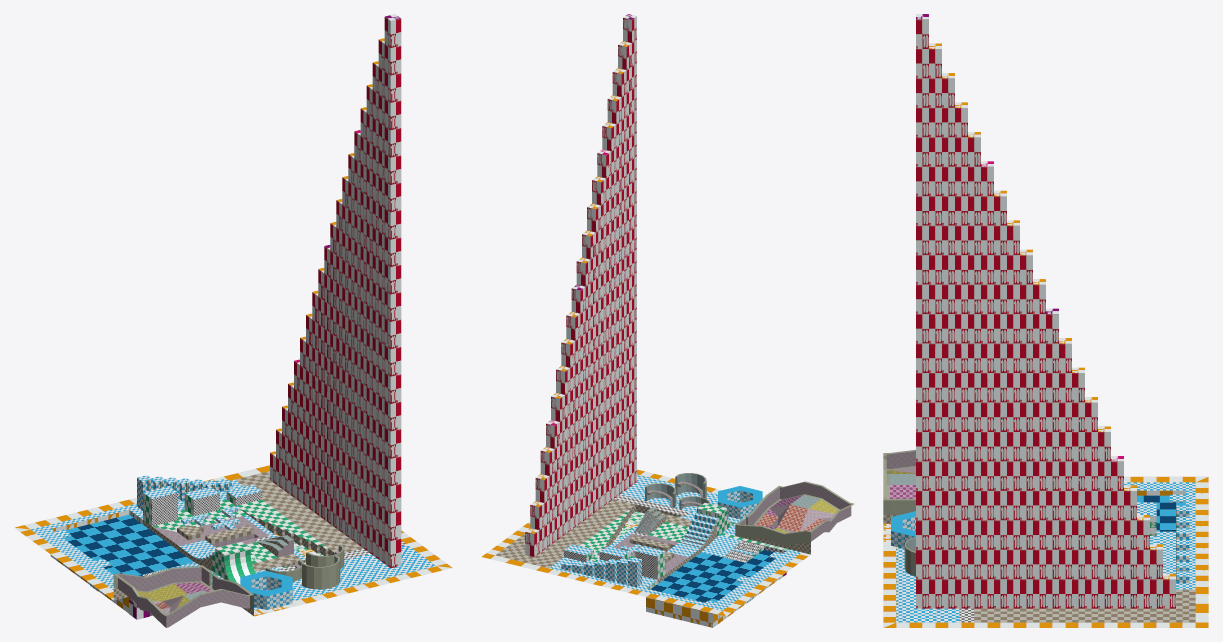
The picture shows the model from 3 angles, left to right: view 1: azimuth 30°, elevation 25°; view 2: azimuth 150°, elevation 25°; view 3: azimuth 270°, elevation 25°; orthographic projection. The views are drawn at different scales.
Visible parts, largest first — view 1: n5b10.001; view 2: n5b10.001; view 3: n5b10.001.
Boxes of the visible parts, x1,y1,x2,y2 form: n5b10.001: (14,14,452,627); n5b10.001: (481,14,854,627); n5b10.001: (883,14,1208,627).
Size of the model in its own units: 110 by 210 by 100.
Materials: 23 (23 with a texture image).
